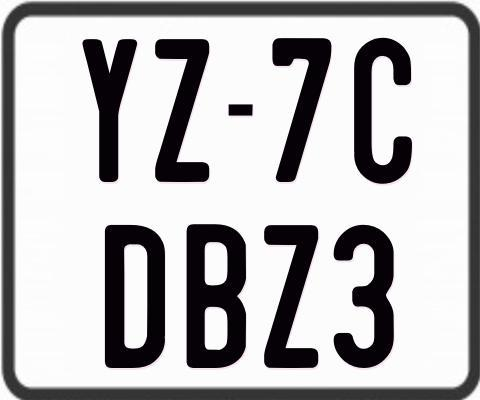3: (332, 223, 392, 369)
7: (270, 35, 335, 181)
B: (185, 223, 250, 368)
C: (354, 37, 412, 184)
D: (102, 225, 166, 368)
Y: (80, 36, 139, 182)
Z: (152, 36, 212, 180), (261, 222, 318, 366)
